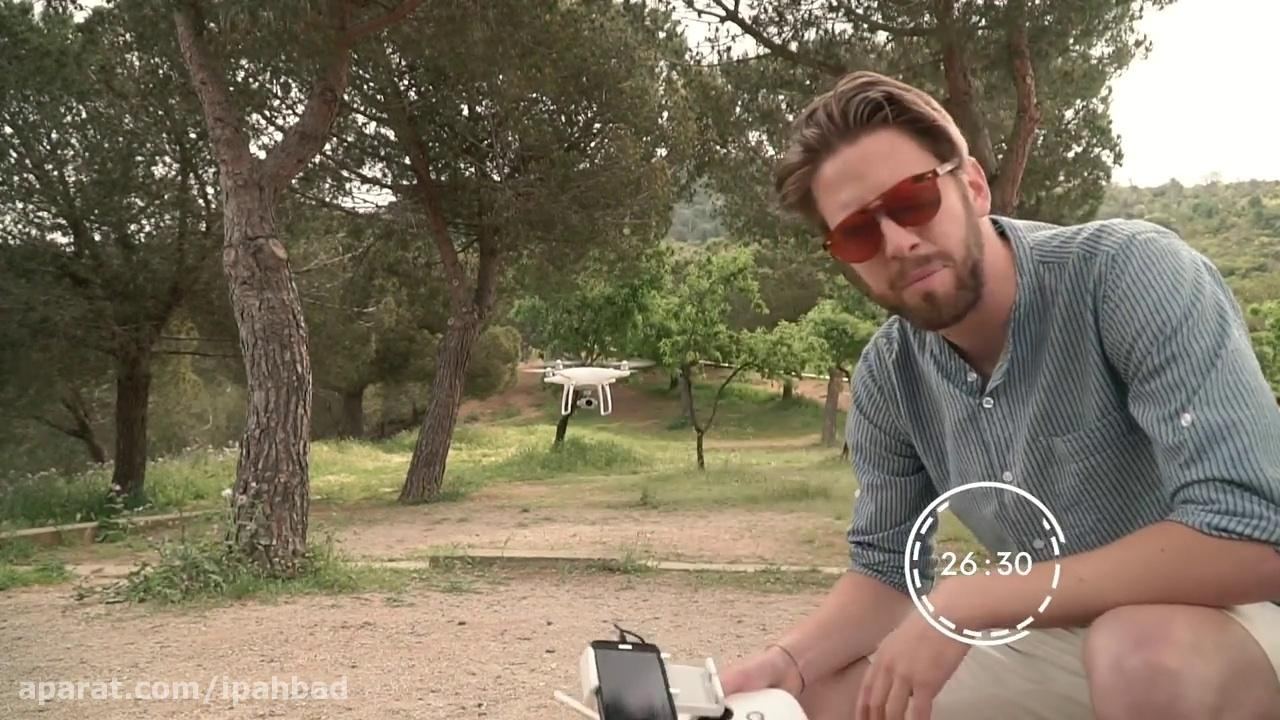drone: (516, 352, 659, 415)
